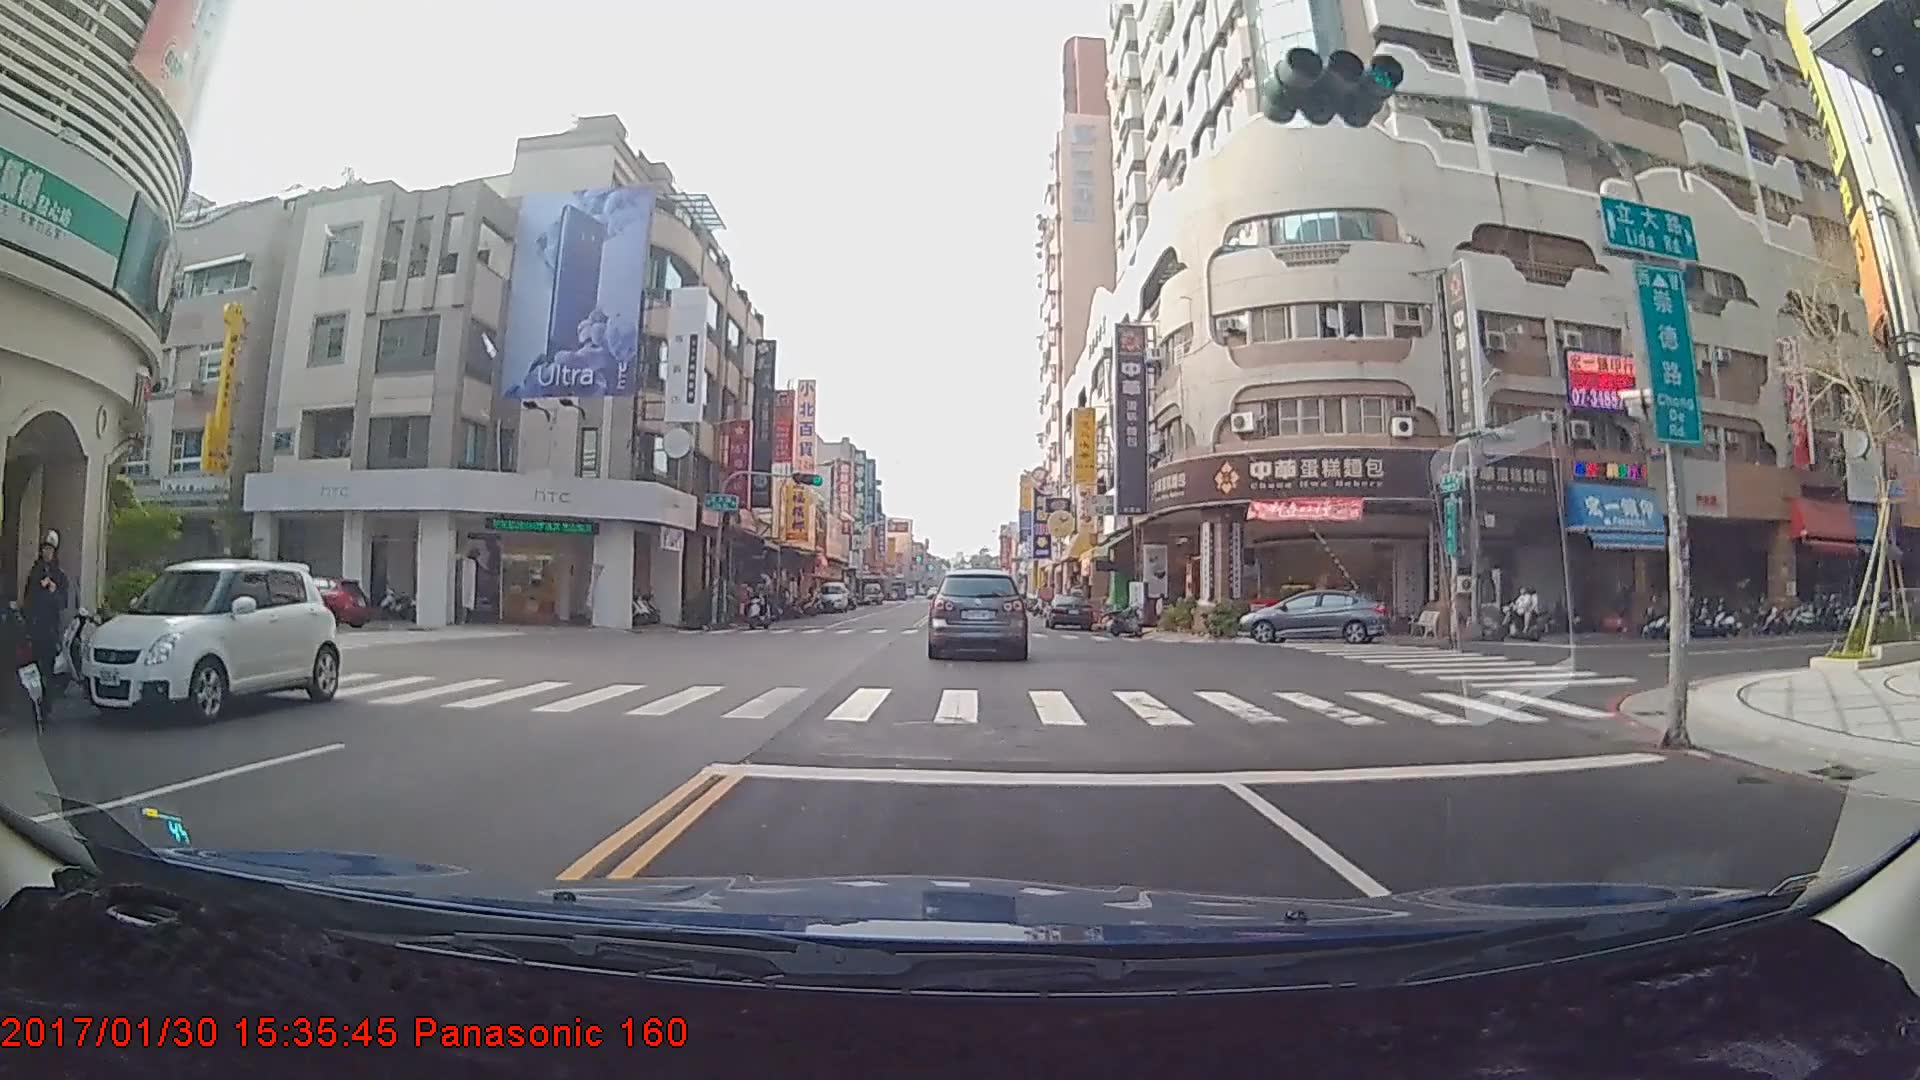pedestrian: (0, 524, 59, 709)
rider: (1490, 588, 1550, 642), (741, 578, 775, 633)
vehicle: (87, 560, 343, 720), (928, 570, 1026, 660), (1235, 588, 1390, 643), (252, 573, 370, 630), (1045, 594, 1094, 631), (815, 582, 849, 613)
